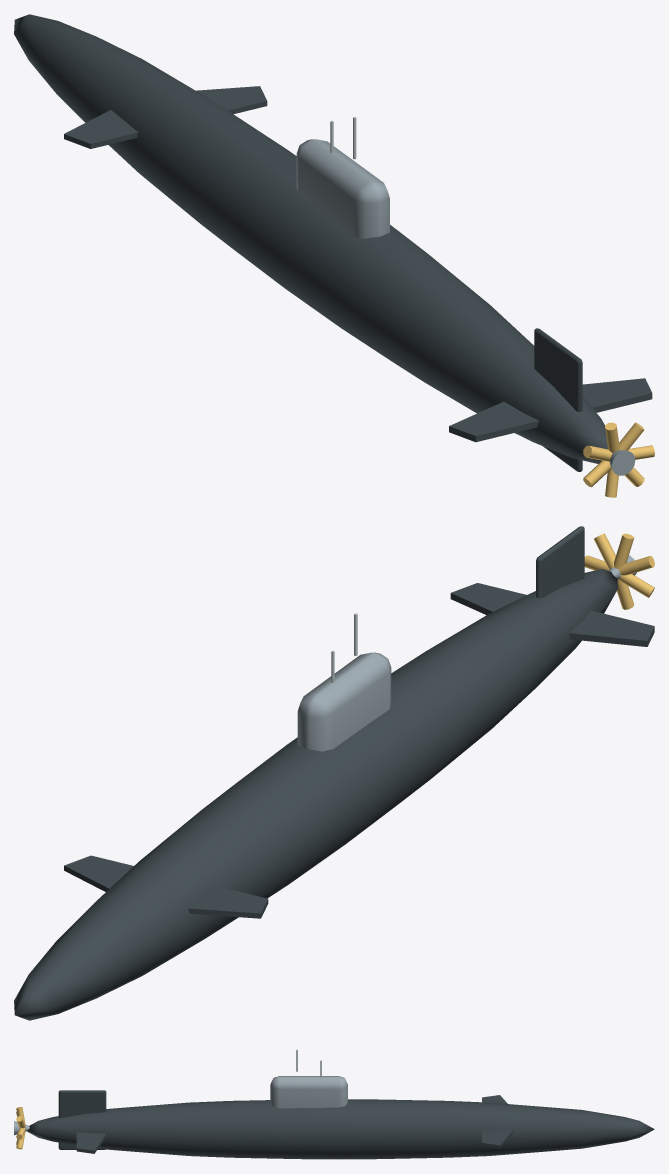
Rendered from generic-submarine.glb.
The picture shows the model from 3 angles, top to bottom: view 1: azimuth 30°, elevation 25°; view 2: azimuth 150°, elevation 25°; view 3: azimuth 270°, elevation 25°; orthographic projection. The views are drawn at different scales.
Parts seen in each view (by area): view 1: submarine_PressureHull, submarine_Sail, submarine_TailPlanes, submarine_BowPlanes, submarine_Rudder; view 2: submarine_PressureHull, submarine_Sail, submarine_TailPlanes, submarine_BowPlanes, submarine_Rudder; view 3: submarine_PressureHull, submarine_Sail, submarine_Rudder, submarine_BowPlanes, submarine_TailPlanes.
Boxes of the visible parts, box(x1,y1,x2,y2) form: submarine_PressureHull: box(14, 14, 607, 463); submarine_Sail: box(296, 139, 389, 238); submarine_TailPlanes: box(449, 378, 652, 442); submarine_BowPlanes: box(64, 86, 267, 148); submarine_Rudder: box(534, 328, 582, 471); submarine_PressureHull: box(14, 569, 617, 1020); submarine_Sail: box(297, 652, 391, 751); submarine_TailPlanes: box(450, 583, 654, 646); submarine_BowPlanes: box(64, 855, 268, 918); submarine_Rudder: box(536, 526, 584, 598); submarine_PressureHull: box(27, 1099, 654, 1159); submarine_Sail: box(270, 1076, 347, 1108); submarine_Rudder: box(58, 1090, 106, 1149); submarine_BowPlanes: box(482, 1095, 513, 1147); submarine_TailPlanes: box(76, 1132, 106, 1153).
Size of the model in its own units: 20 by 19.8 by 108.
